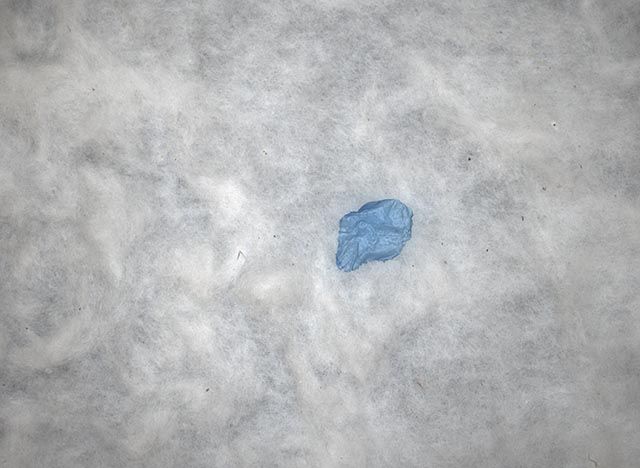plastic film: (334, 196, 414, 276)
